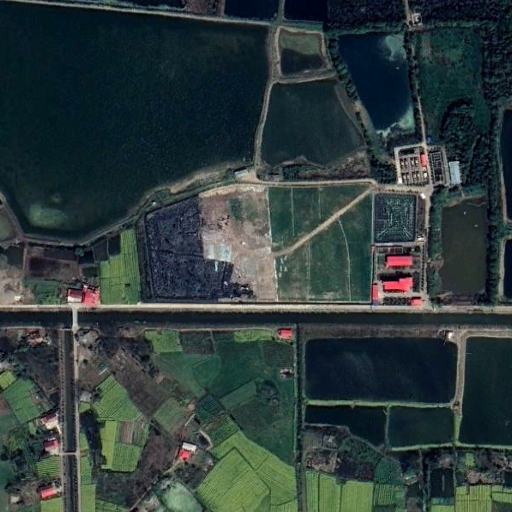lf: (138, 183, 276, 303)
